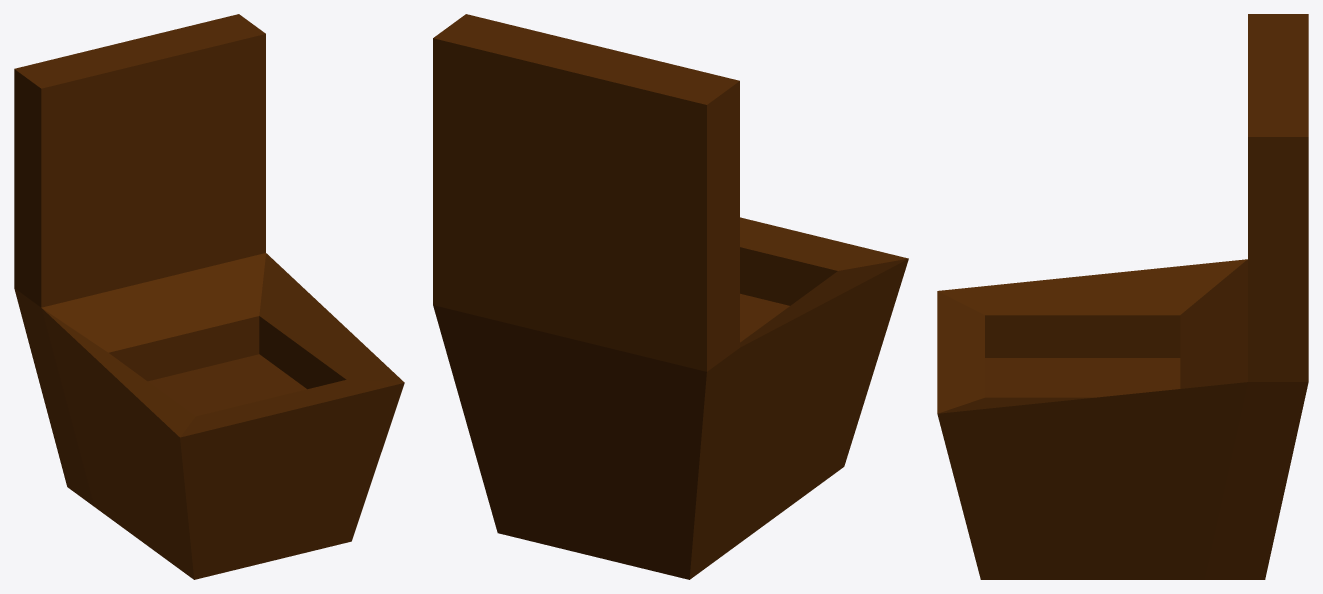
The picture shows the model from 3 angles, left to right: view 1: azimuth 30°, elevation 25°; view 2: azimuth 150°, elevation 25°; view 3: azimuth 270°, elevation 25°; orthographic projection. The views are drawn at different scales.
Parts seen in each view (by area): view 1: polySurface2605; view 2: polySurface2605; view 3: polySurface2605.
Part boxes in pixels (x1,y1,x2,y2): polySurface2605: (14, 14, 404, 579); polySurface2605: (433, 14, 908, 579); polySurface2605: (937, 14, 1308, 579).
Bounding box in the file's own units: 95.27 × 167 × 122.
